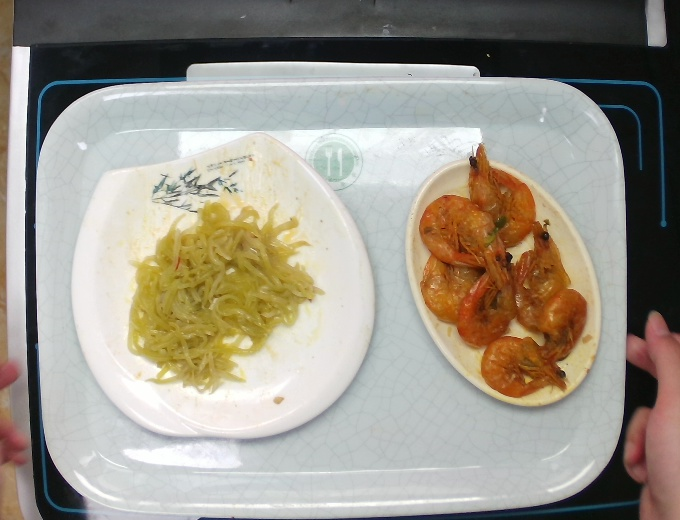JYsf-Mian_Pan: (63, 121, 383, 445)
JYsf-Tuo_Yuan_Wan: (402, 141, 608, 411)
